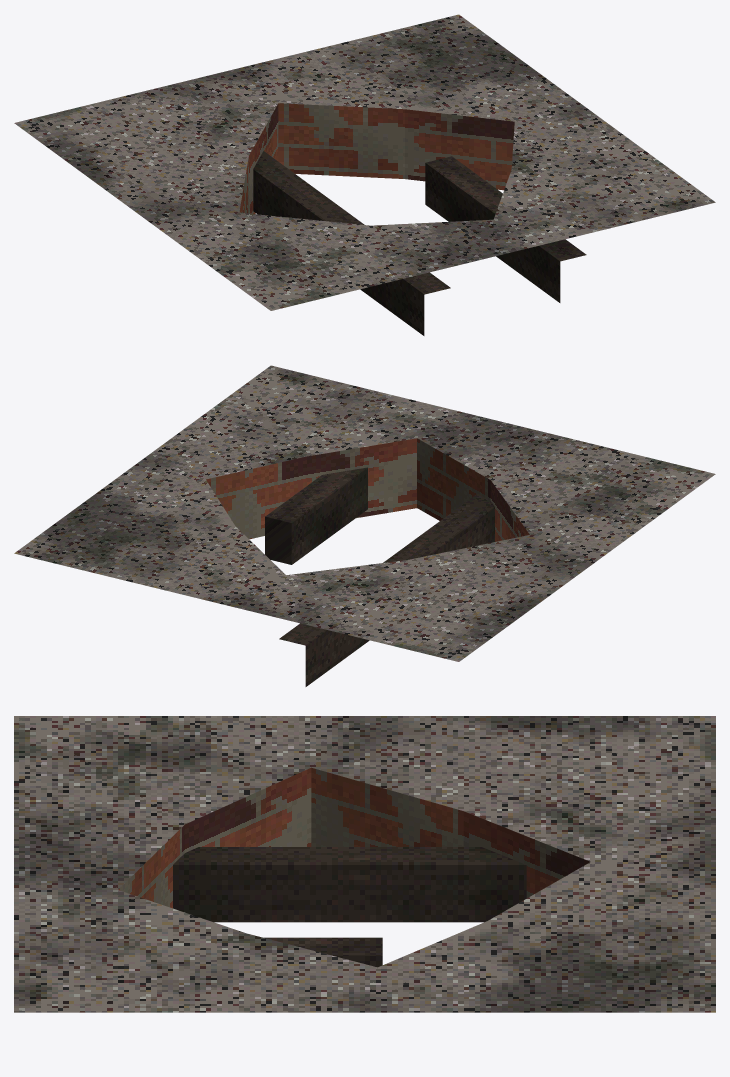
File: floor_terrazzo_broken.gltf
The picture shows the model from 3 angles, top to bottom: view 1: azimuth 30°, elevation 25°; view 2: azimuth 150°, elevation 25°; view 3: azimuth 270°, elevation 25°; orthographic projection. The views are drawn at different scales.
Parts seen in each view (by area): view 1: floor_terrazzo_broken-col; view 2: floor_terrazzo_broken-col; view 3: floor_terrazzo_broken-col.
Boxes of the visible parts, <box> form: floor_terrazzo_broken-col: <box>14,14,715,335</box>; floor_terrazzo_broken-col: <box>14,365,715,686</box>; floor_terrazzo_broken-col: <box>14,716,715,1012</box>.
Bounding box in the file's own units: 2 × 0.3 × 2.
Materials: 3 (3 with a texture image).
